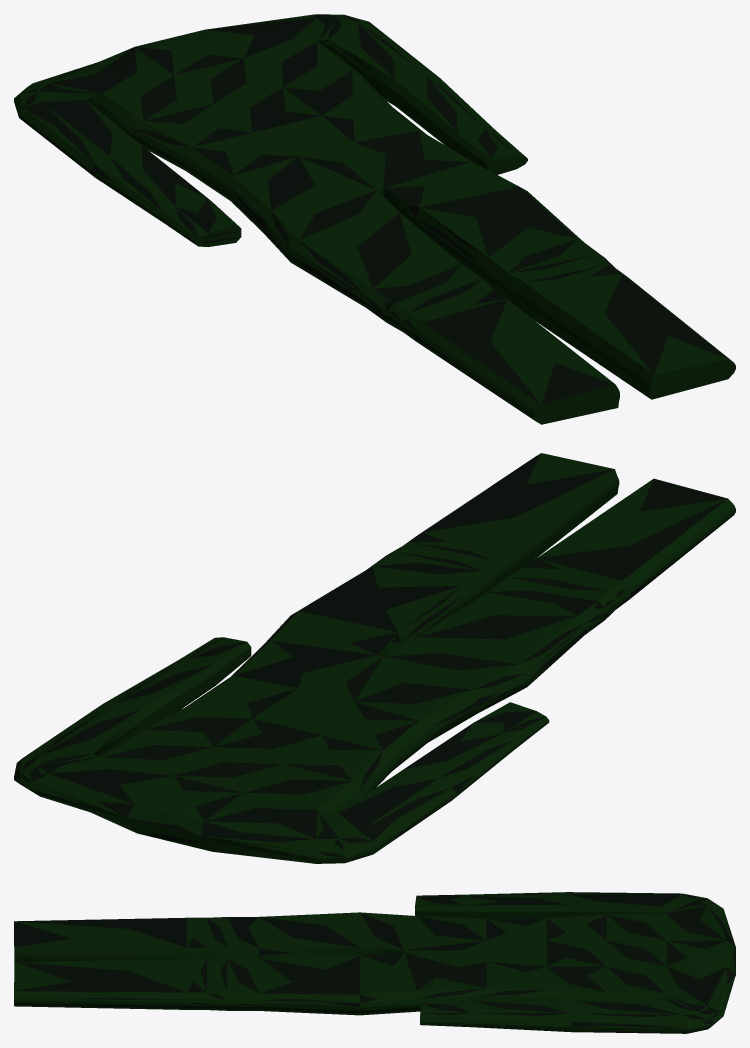
The model's file is MilitaryOutfit.FBX.
3 renders of one model, top to bottom at view 1: azimuth 30°, elevation 25°; view 2: azimuth 150°, elevation 25°; view 3: azimuth 270°, elevation 25°, orthographic. The views are drawn at different scales.
Visible parts, largest first — view 1: Army Outfit; view 2: Army Outfit; view 3: Army Outfit.
Boxes of the visible parts, x1,y1,x2,y2 form: Army Outfit: (14,14,735,424); Army Outfit: (14,453,735,863); Army Outfit: (14,892,735,1033).
Size of the model in its own units: 62.83 by 5.62 by 142.
